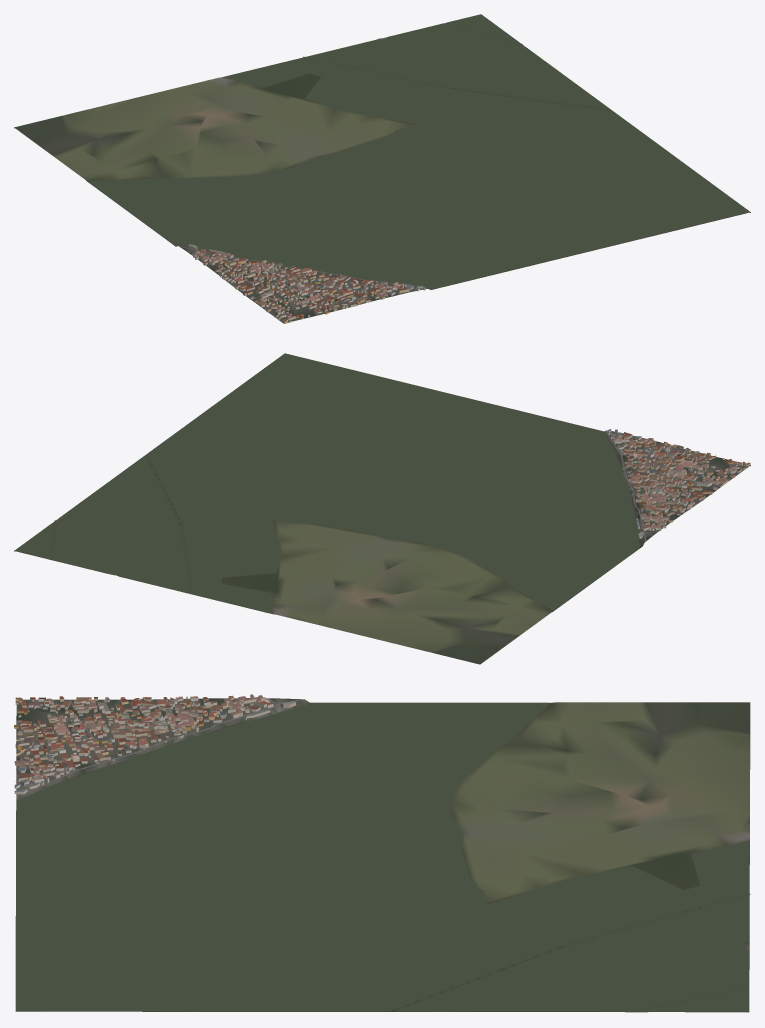
The picture shows the model from 3 angles, top to bottom: view 1: azimuth 30°, elevation 25°; view 2: azimuth 150°, elevation 25°; view 3: azimuth 270°, elevation 25°; orthographic projection. The views are drawn at different scales.
Parts seen in each view (by area): view 1: water, ground, buildings; view 2: water, ground, buildings; view 3: water, ground, buildings, roads.
Boxes of the visible parts, x1,y1,x2,y2 form: water: (88,14,749,289); ground: (14,21,750,323); buildings: (188,244,425,323); water: (15,353,640,613); ground: (14,359,750,664); buildings: (606,429,750,538); water: (16,702,750,1012); ground: (15,698,750,1012); buildings: (14,694,295,794); roads: (15,698,301,791).
Size of the model in its own units: 1407 by 20.37 by 1408.
